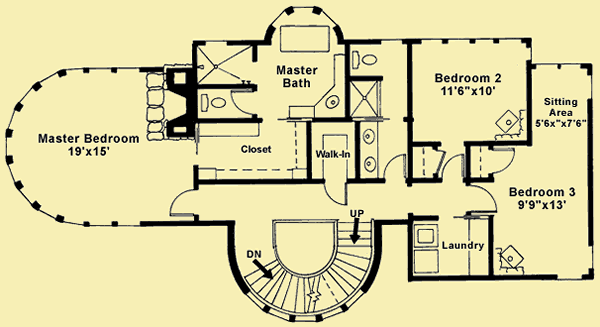bathroom has a dual sink, large sink and shower space: (348, 40, 411, 183)
laundry room has washer and dryer: (410, 213, 489, 278)
master bathroom has a shower space, large sink and small sink: (195, 43, 347, 122)
